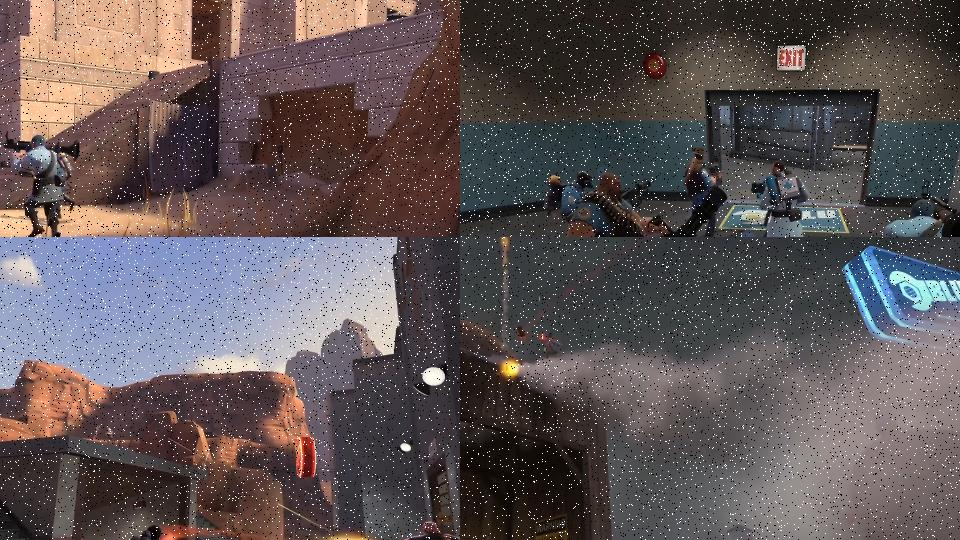Enemy: (2, 129, 80, 237), (543, 167, 652, 237), (853, 178, 960, 237), (751, 158, 811, 237), (682, 145, 725, 237), (544, 330, 564, 364), (92, 424, 101, 440), (105, 427, 113, 441)
